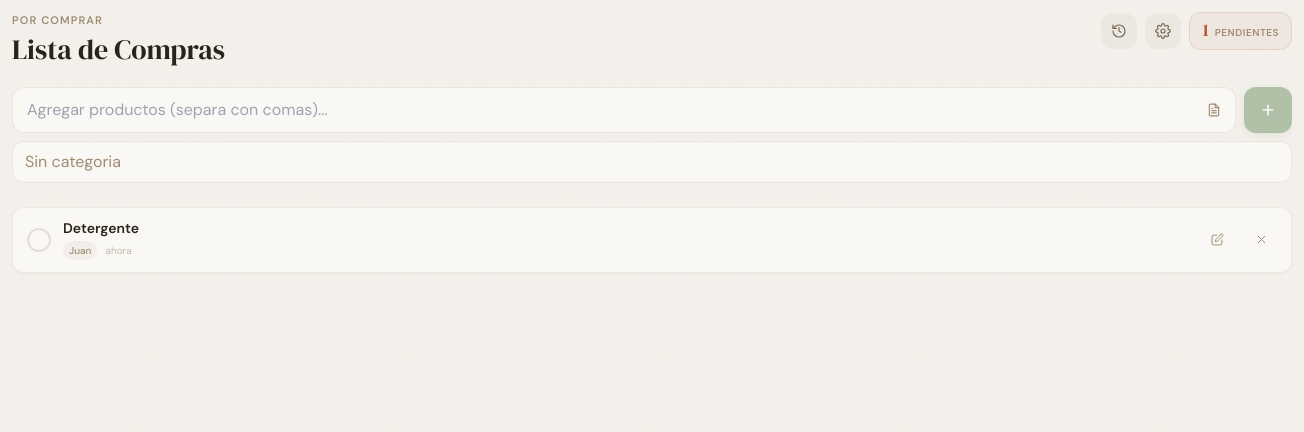
ShoppingList — edición de ítems › no permite guardar con el nombre vacío
The width and height of the screenshot is (1304, 432).
Check: the text "Detergente" is shown, box [63, 218, 139, 236]
Click the button titled "Editar" at (1217, 240), box [1201, 224, 1233, 256]
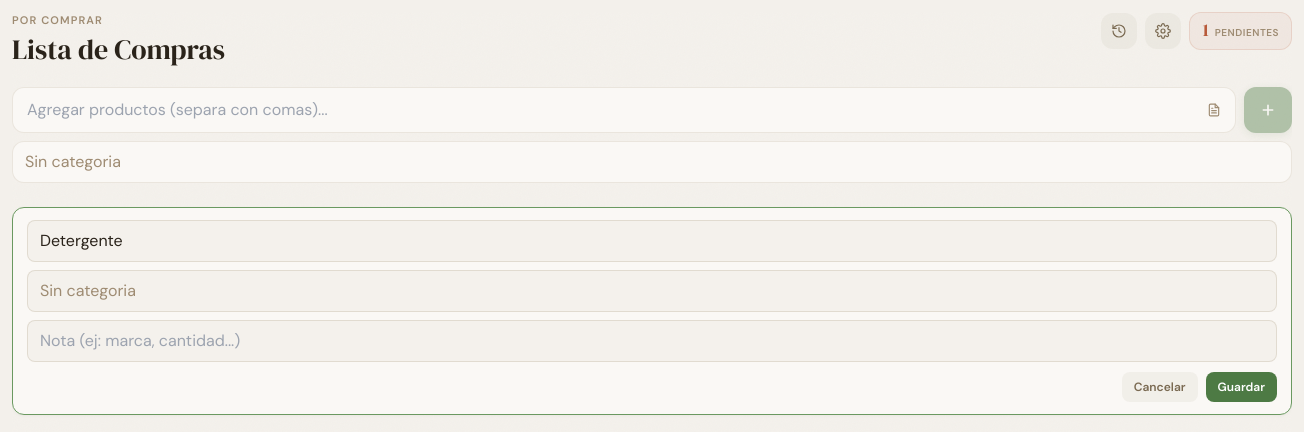
Clear the field showing "Detergente" at (652, 240), box [27, 220, 1277, 262]
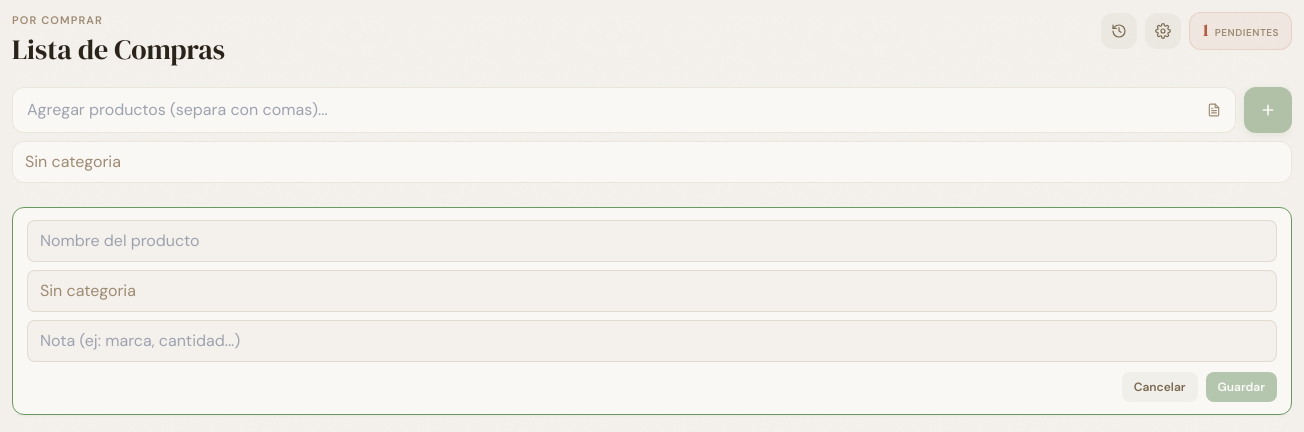
Check: the button "Guardar" is disabled, box [1206, 372, 1277, 402]
